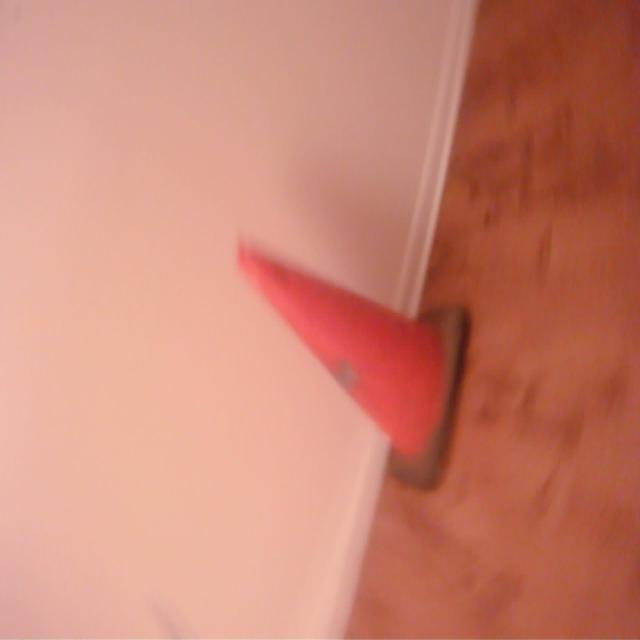traffic cone: (234, 236, 474, 505)
